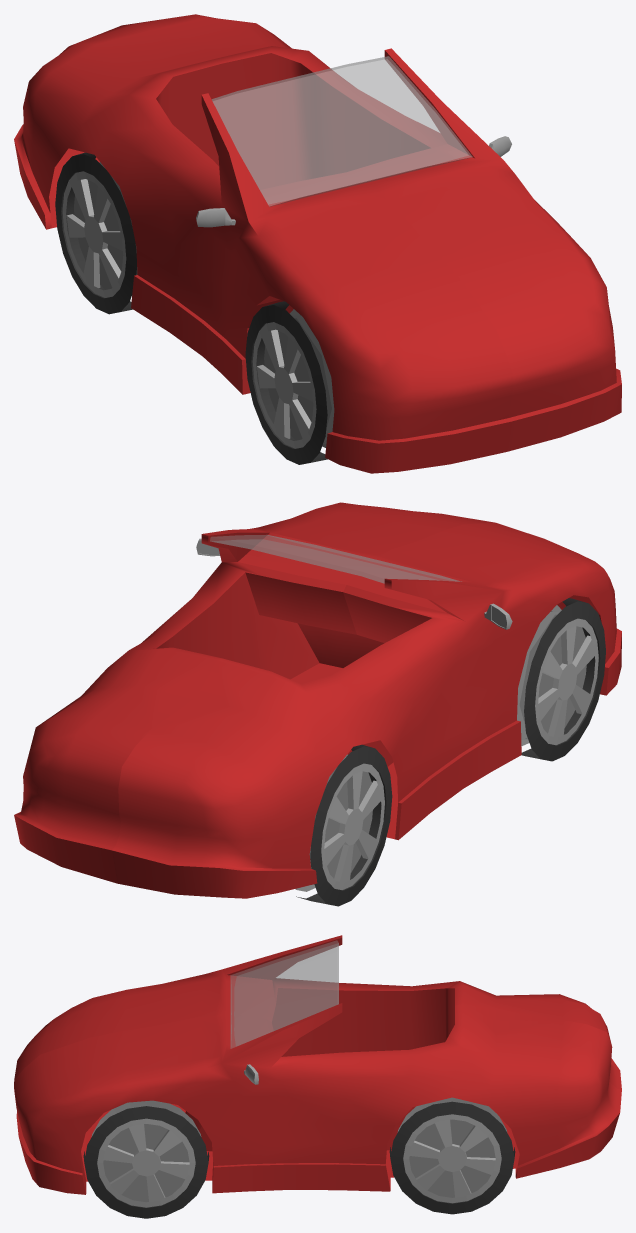
Rendered from car_test.fbx.
3 views of the same model, one above another, from view 1: azimuth 30°, elevation 25°; view 2: azimuth 150°, elevation 25°; view 3: azimuth 270°, elevation 25° (orthographic). The views are drawn at different scales.
Visible parts, largest first — view 1: car:polySurface141, car:polySurface144, car:polySurface173, car:polySurface175, car:polySurface142; view 2: car:polySurface141, car:polySurface173, car:polySurface175, car:polySurface144; view 3: car:polySurface141, car:polySurface174, car:polySurface176, car:polySurface144.
Boxes of the visible parts, <box> form: car:polySurface141: <box>14,14,621,473</box>; car:polySurface144: <box>212,56,472,206</box>; car:polySurface173: <box>245,301,334,464</box>; car:polySurface175: <box>55,152,137,314</box>; car:polySurface142: <box>196,208,235,227</box>; car:polySurface141: <box>14,502,621,898</box>; car:polySurface173: <box>517,598,605,761</box>; car:polySurface175: <box>295,744,392,906</box>; car:polySurface144: <box>210,535,461,583</box>; car:polySurface141: <box>14,935,621,1194</box>; car:polySurface174: <box>83,1100,209,1218</box>; car:polySurface176: <box>389,1097,515,1214</box>; car:polySurface144: <box>230,940,338,1048</box>.
Bounding box in the file's own units: 3.43 × 2.7 × 7.55.
